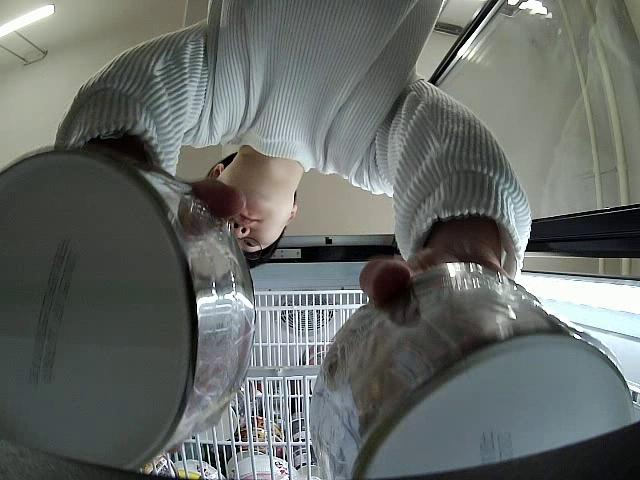03_chapagetti_L: (0, 141, 258, 480), (310, 260, 634, 480)
